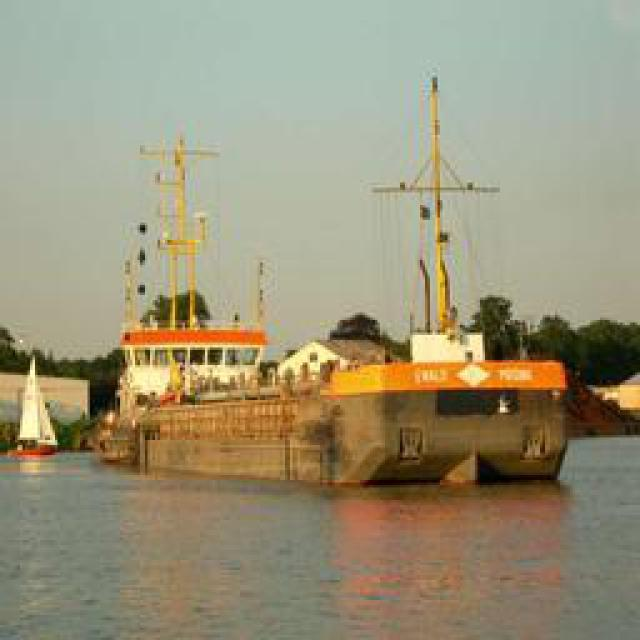Ship: (109, 347, 574, 487)
